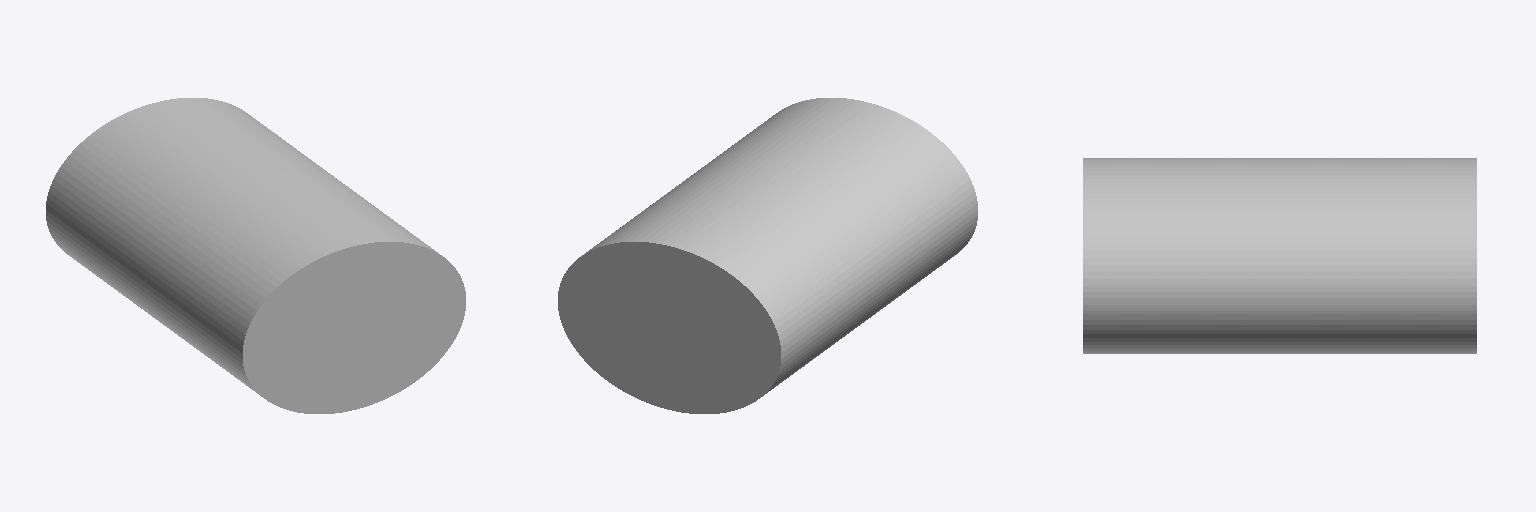
The model's file is ellipse_peg.obj.
3 views of the same model, side by side, from view 1: azimuth 30°, elevation 25°; view 2: azimuth 150°, elevation 25°; view 3: azimuth 270°, elevation 25° (orthographic).
Size of the model in its own units: 0.05 by 0.035 by 0.0762.